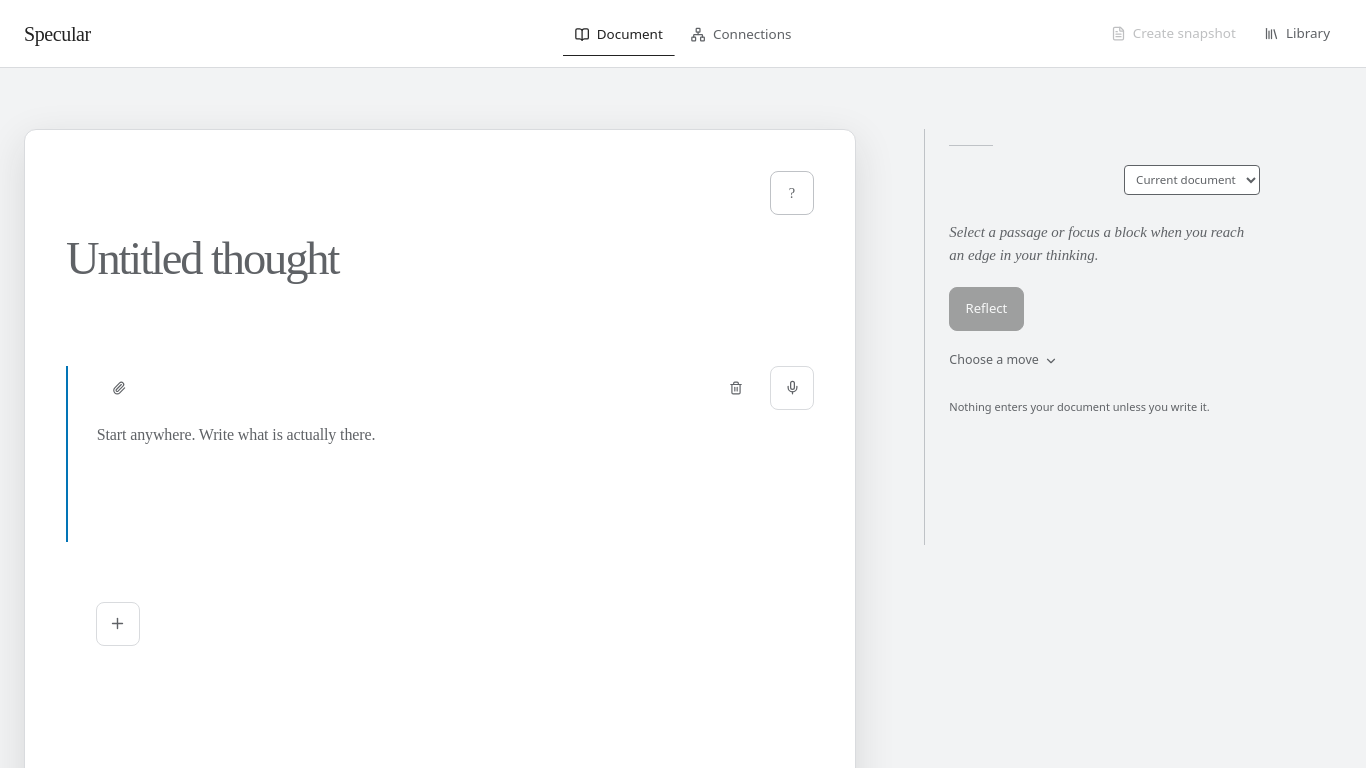
Test: Specular thinking workspace › makes an interrupted dictation unmistakable and keeps its text provisional
Click the button named "Start dictation" at (792, 388), box top-left (770, 366), bottom-right (814, 410)
(page scrolled)
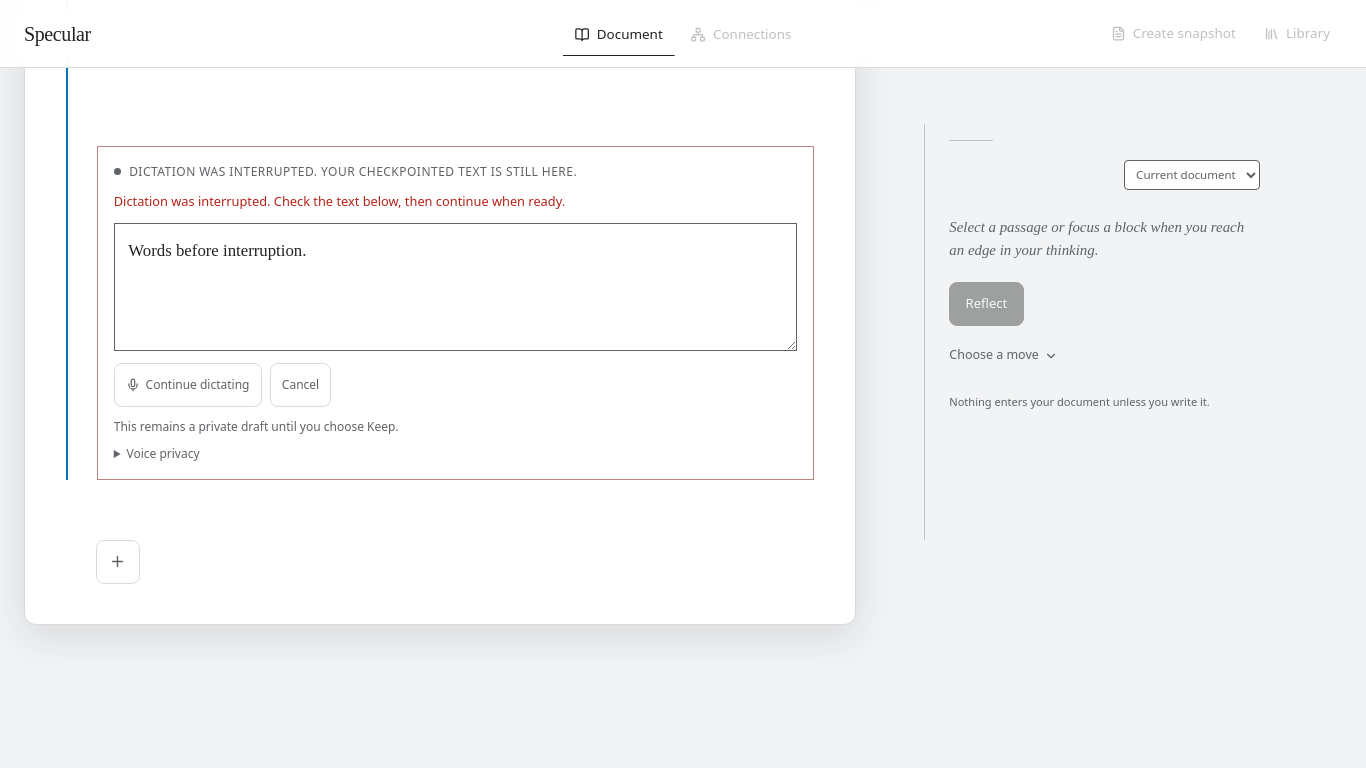
expect the text box named "Thought writing block" is empty: met, box top-left (97, 14), bottom-right (814, 134)
expect the message shows "Dictation was interrupted": met, box top-left (114, 192), bottom-right (565, 210)
expect the button "Continue dictating" is shown: met, box top-left (114, 362), bottom-right (262, 406)
